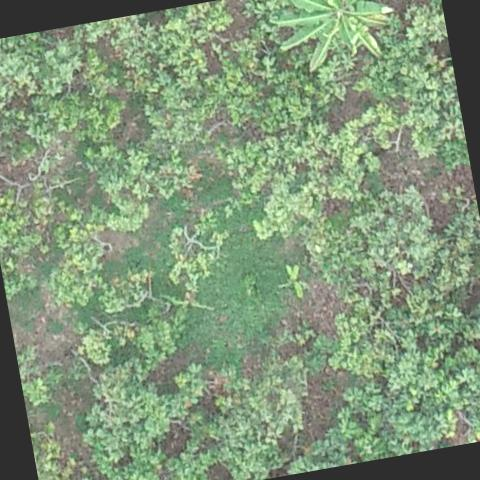Banana-plant: (263, 0, 406, 81)
